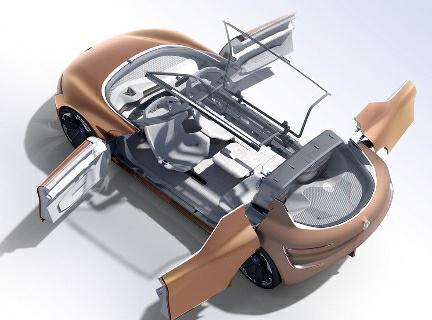雷诺-Symbioz: (49, 26, 397, 297)
